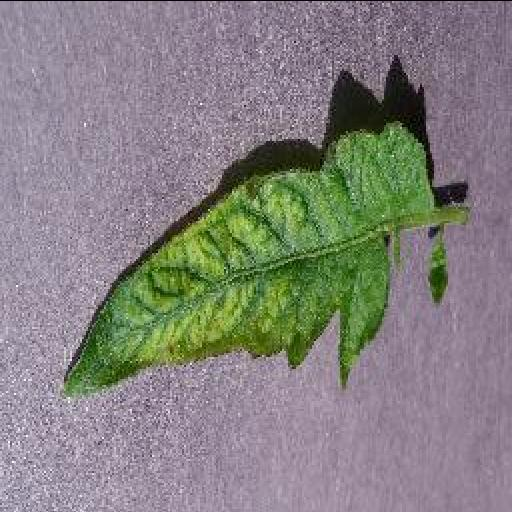disease_tomato: (58, 116, 436, 398)
